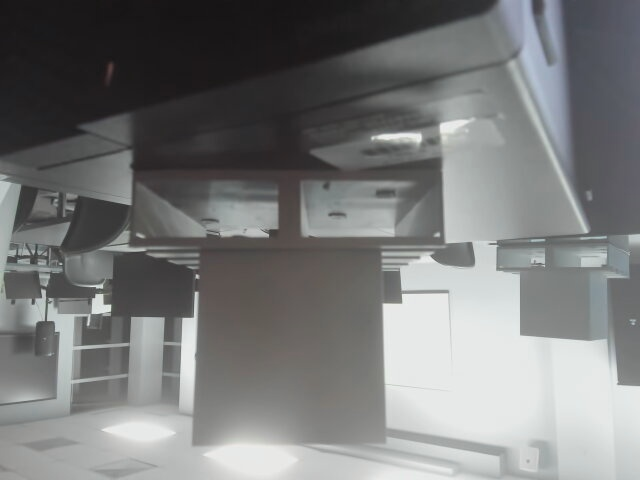grey pallet: (124, 146, 486, 451)
white pallet: (489, 237, 637, 347)
